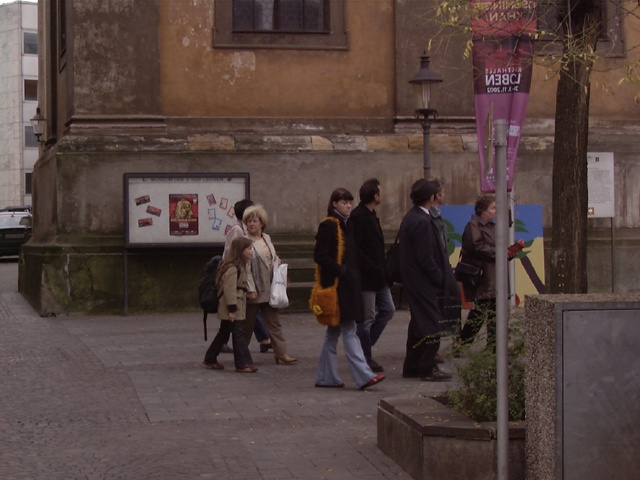person: (389, 172, 458, 379), (312, 184, 371, 393), (228, 201, 278, 367)
